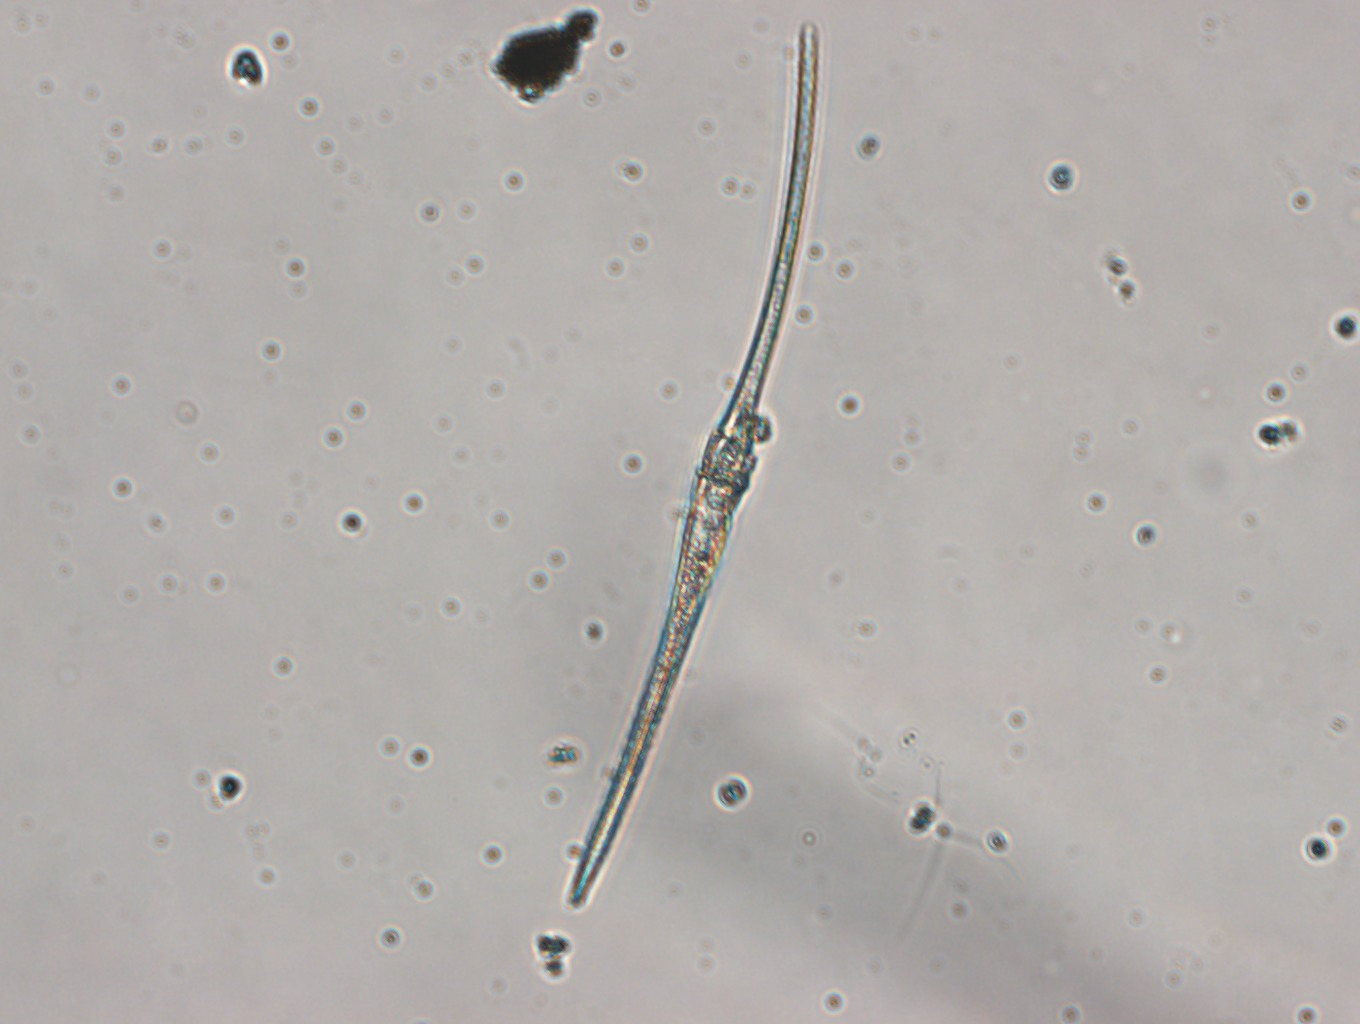ceratium fusus: (563, 14, 825, 915)
